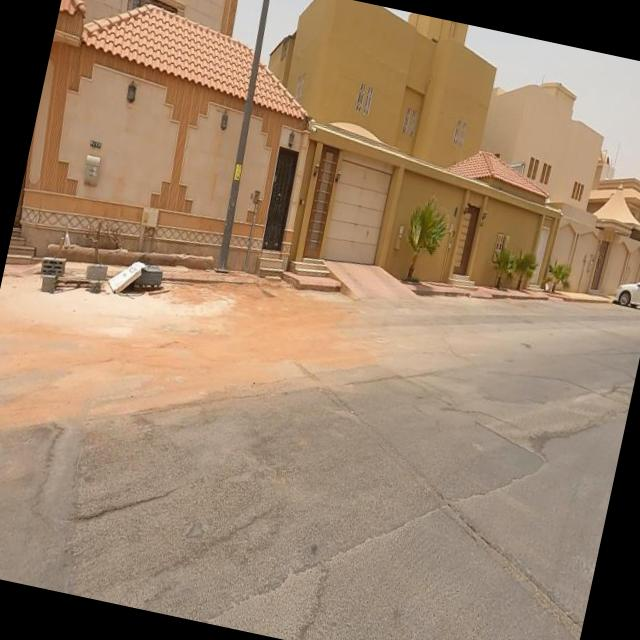debris: (66, 196, 218, 350)
